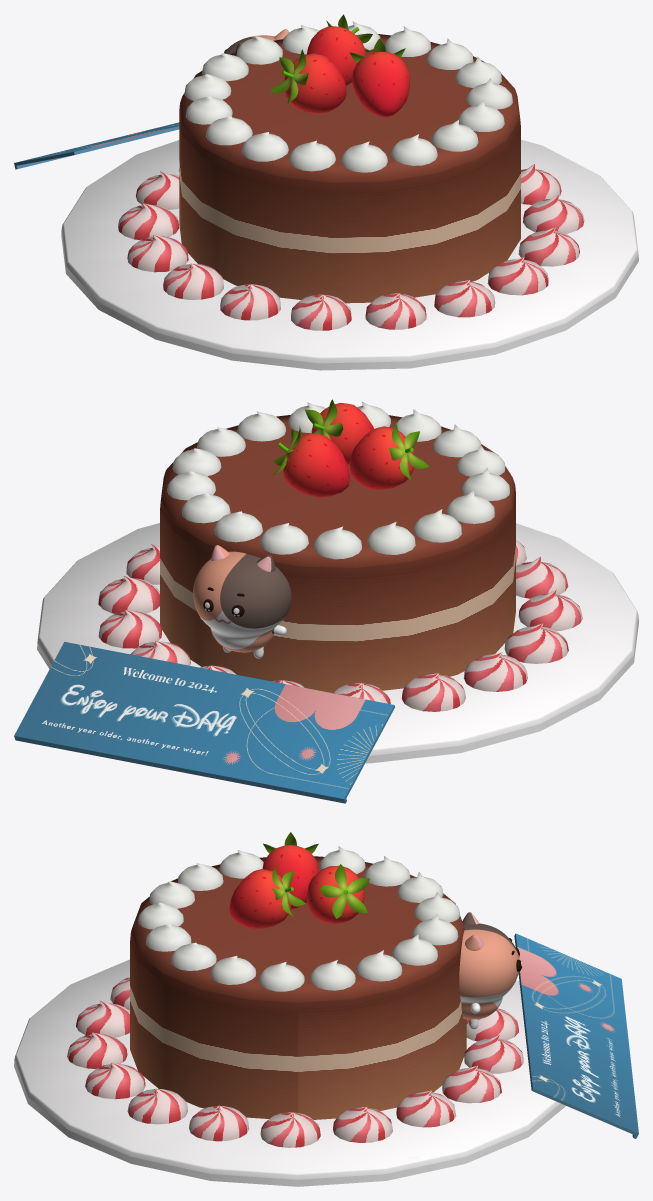
File: cat_cake_1.glb
3 renders of one model, top to bottom at view 1: azimuth 30°, elevation 25°; view 2: azimuth 150°, elevation 25°; view 3: azimuth 270°, elevation 25°, orthographic. The views are drawn at different scales.
Parts seen in each view (by area): view 1: Cake, Sphere005, Sphere032, Sphere010, Sphere027, Sphere028, Sphere029, Sphere025, Sphere026, Sphere024, Sphere023, Sphere030 (+21 smaller); view 2: Cake, Mesh_0, Object_27, Sphere010, Sphere032, Sphere022, Sphere023, Sphere024, Sphere017, Sphere025, Sphere016, Sphere026 (+20 smaller); view 3: Cake, Mesh_0, Object_27, Sphere005, Sphere032, Sphere017, Sphere018, Sphere015, Sphere030, Sphere016, Sphere029, Sphere031 (+21 smaller).
Part boxes in pixels (x1,y1,x2,y2): Cake: (61, 34, 638, 370); Sphere005: (352, 51, 409, 117); Sphere032: (282, 53, 346, 113); Sphere010: (306, 26, 366, 85); Sphere027: (365, 293, 426, 329); Sphere028: (434, 280, 495, 317); Sphere029: (487, 257, 548, 295); Sphere025: (220, 284, 280, 320); Sphere026: (291, 294, 351, 330); Sphere024: (163, 263, 223, 299); Sphere023: (127, 235, 188, 272); Sphere030: (518, 227, 579, 266); Cake: (37, 415, 638, 763); Mesh_0: (14, 642, 394, 803); Object_27: (193, 551, 291, 658); Sphere010: (278, 433, 349, 497); Sphere032: (349, 426, 414, 489); Sphere022: (401, 673, 465, 711); Sphere023: (464, 652, 527, 691); Sphere024: (504, 623, 568, 663); Sphere017: (98, 609, 161, 648); Sphere025: (518, 590, 582, 630); Sphere016: (98, 576, 159, 613); Sphere026: (516, 556, 568, 598); Cake: (14, 856, 565, 1186); Mesh_0: (514, 933, 638, 1138); Object_27: (459, 923, 519, 1029); Sphere005: (229, 869, 293, 928); Sphere032: (262, 845, 318, 909); Sphere017: (396, 1090, 456, 1127); Sphere018: (442, 1065, 501, 1103); Sphere015: (260, 1112, 320, 1147); Sphere030: (127, 1088, 187, 1124); Sphere016: (333, 1107, 392, 1142); Sphere029: (85, 1063, 145, 1099); Sphere031: (189, 1105, 249, 1141).
Size of the model in its own units: 0.4367 by 0.1838 by 0.4798.
Materials: 12 (11 with a texture image).
